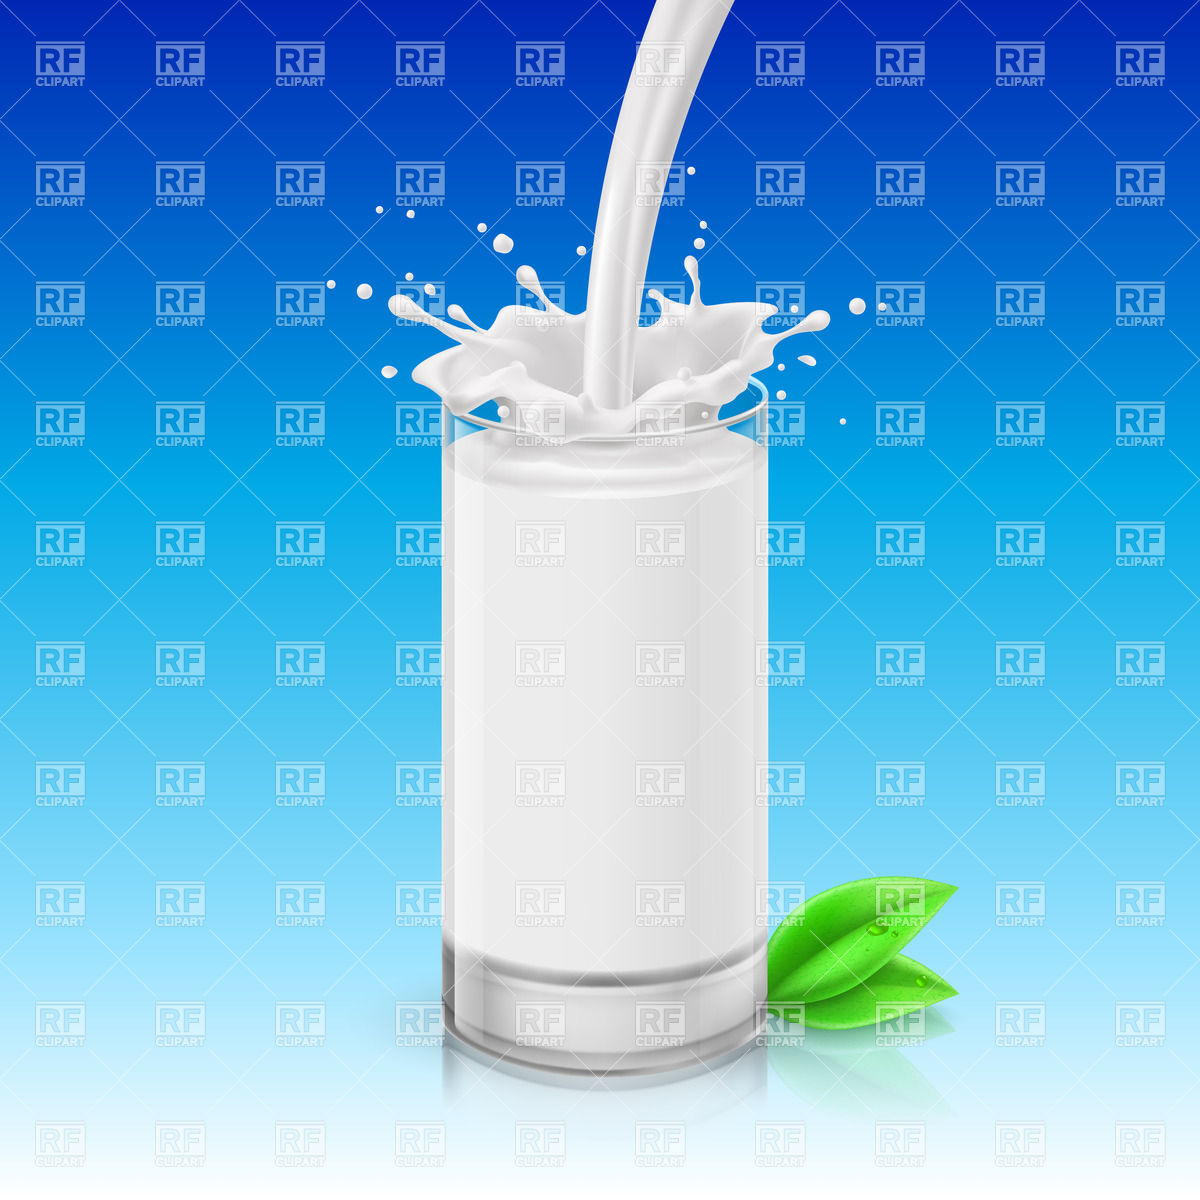glass of milk: (460, 354, 763, 1027)
